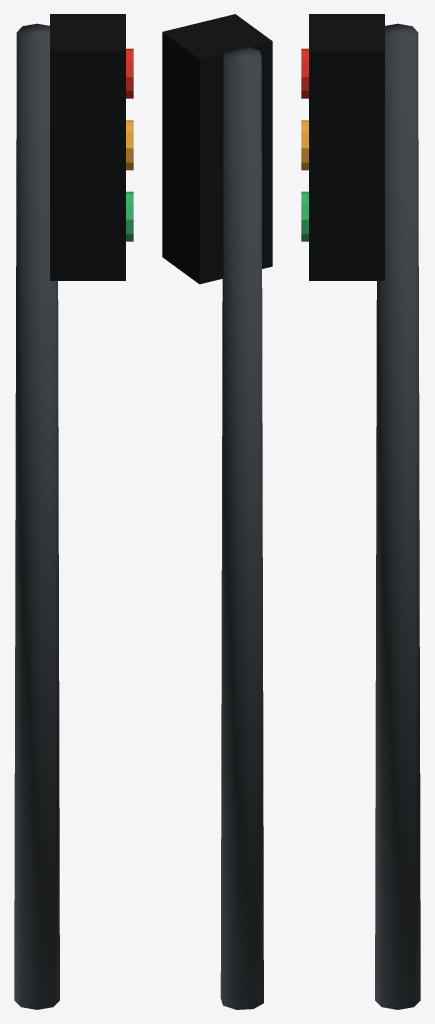
File: traffic-signal.glb
3 views of the same model, side by side, from view 1: azimuth 90°, elevation 25°; view 2: azimuth 210°, elevation 25°; view 3: azimuth 270°, elevation 25° (orthographic). The views are drawn at different scales.
Parts seen in each view (by area): view 1: Pole, Housing, Light0, Light1, Light2; view 2: Pole, Housing; view 3: Pole, Housing, Light0, Light1, Light2.
Part boxes in pixels (x1=…): Pole: x1=14, y1=23, x2=59, y2=1009; Housing: x1=50, y1=14, x2=125, y2=280; Light0: x1=126, y1=48, x2=133, y2=98; Light1: x1=126, y1=120, x2=133, y2=170; Light2: x1=126, y1=191, x2=133, y2=241; Pole: x1=220, y1=47, x2=263, y2=1009; Housing: x1=162, y1=14, x2=272, y2=284; Pole: x1=375, y1=23, x2=420, y2=1009; Housing: x1=309, y1=14, x2=384, y2=280; Light0: x1=301, y1=48, x2=308, y2=98; Light1: x1=301, y1=120, x2=308, y2=170; Light2: x1=301, y1=191, x2=308, y2=241.
Bounding box in the file's own units: 0.34 × 4.2 × 0.47.
